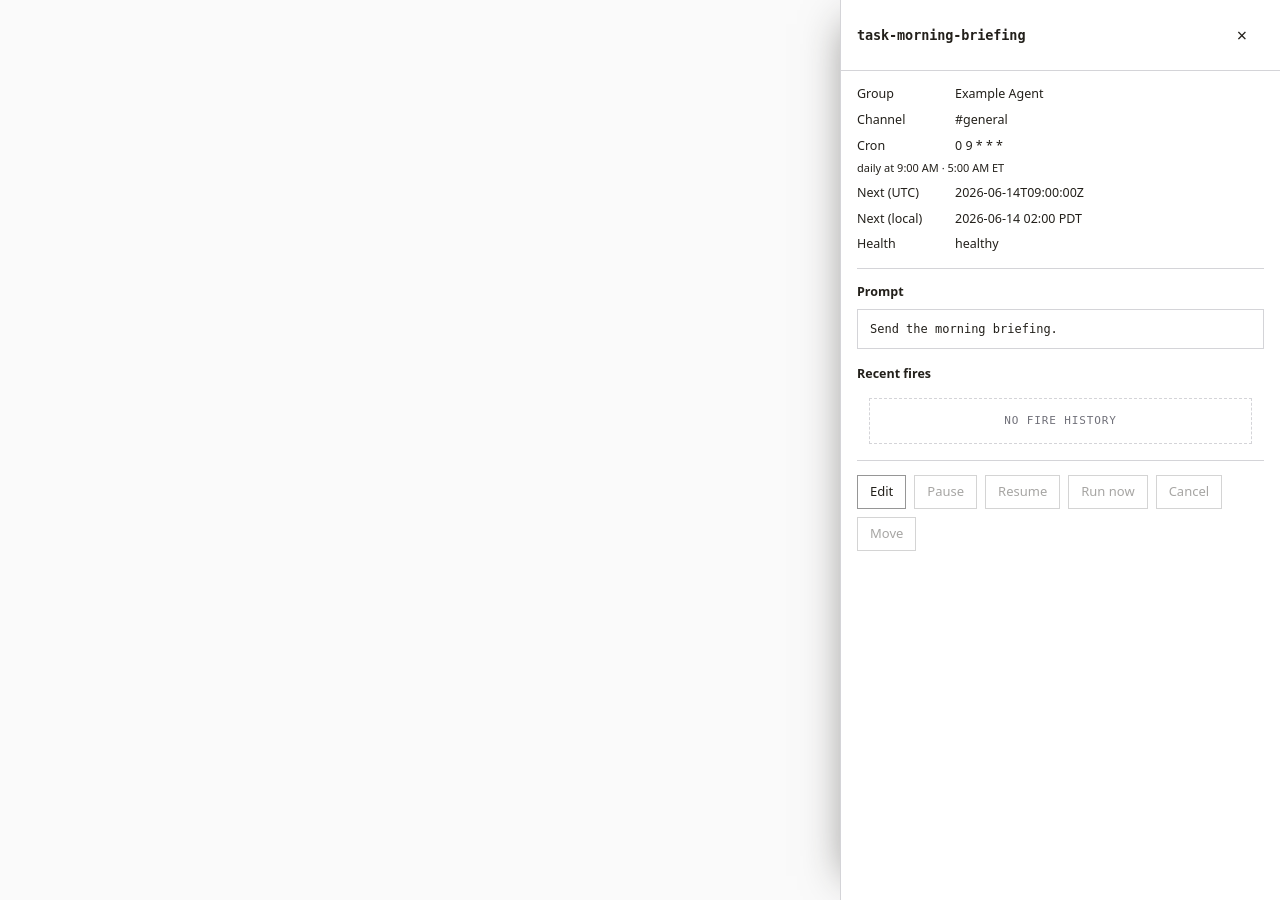
Test: ScheduledDrawer › the edit form live-updates the plain-English subtext as the cron field changes
expect the dialog with test id "sched-drawer" is shown: met, box [840,0,1279,899]
Click the button "Edit": (882, 492) [857,475,906,509]
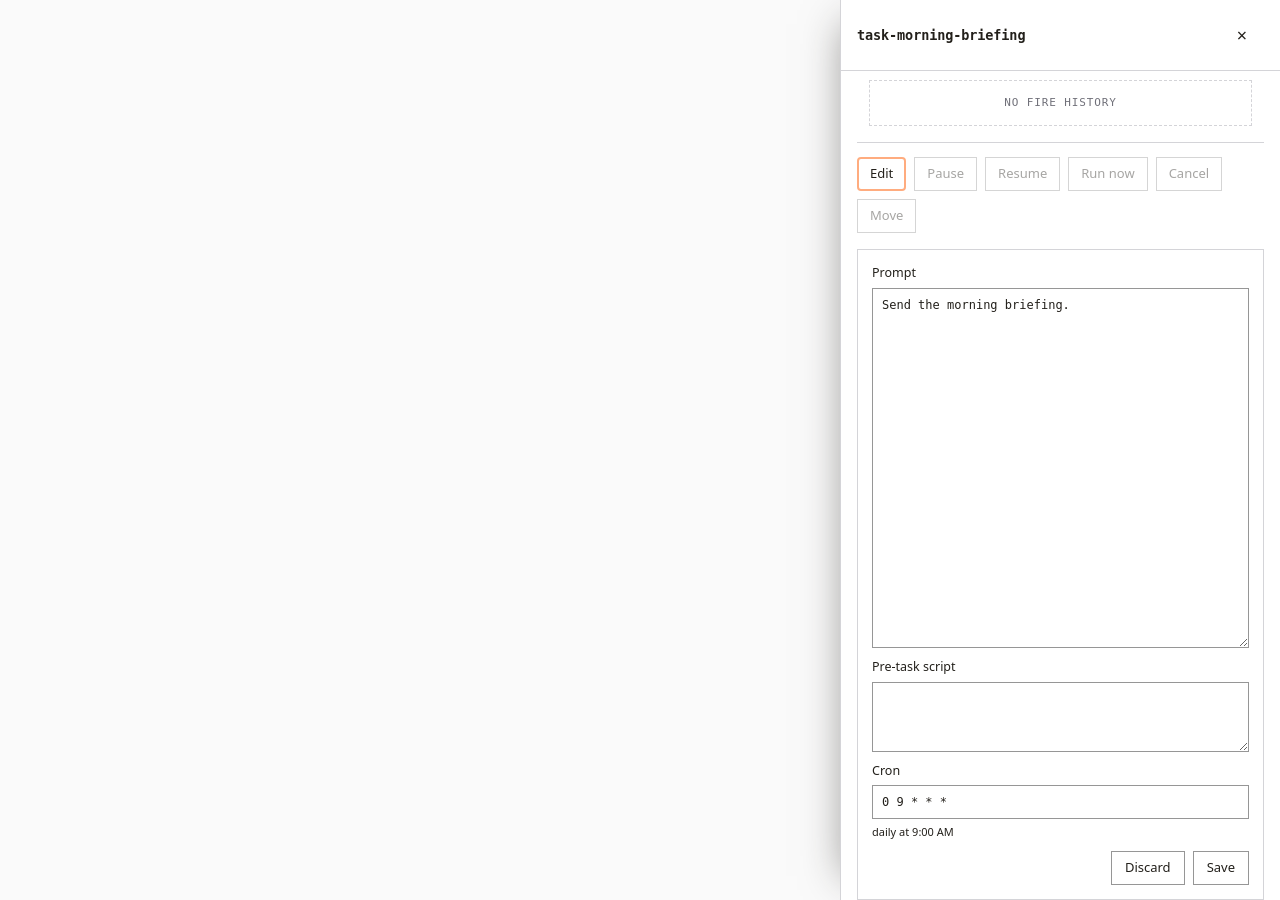
expect the form with test id "sched-edit-form" shows "daily at 9:00 AM": met, box [872,824,954,839]
Clear the field labelled "Cron": (1060, 802) [872,785,1249,819]
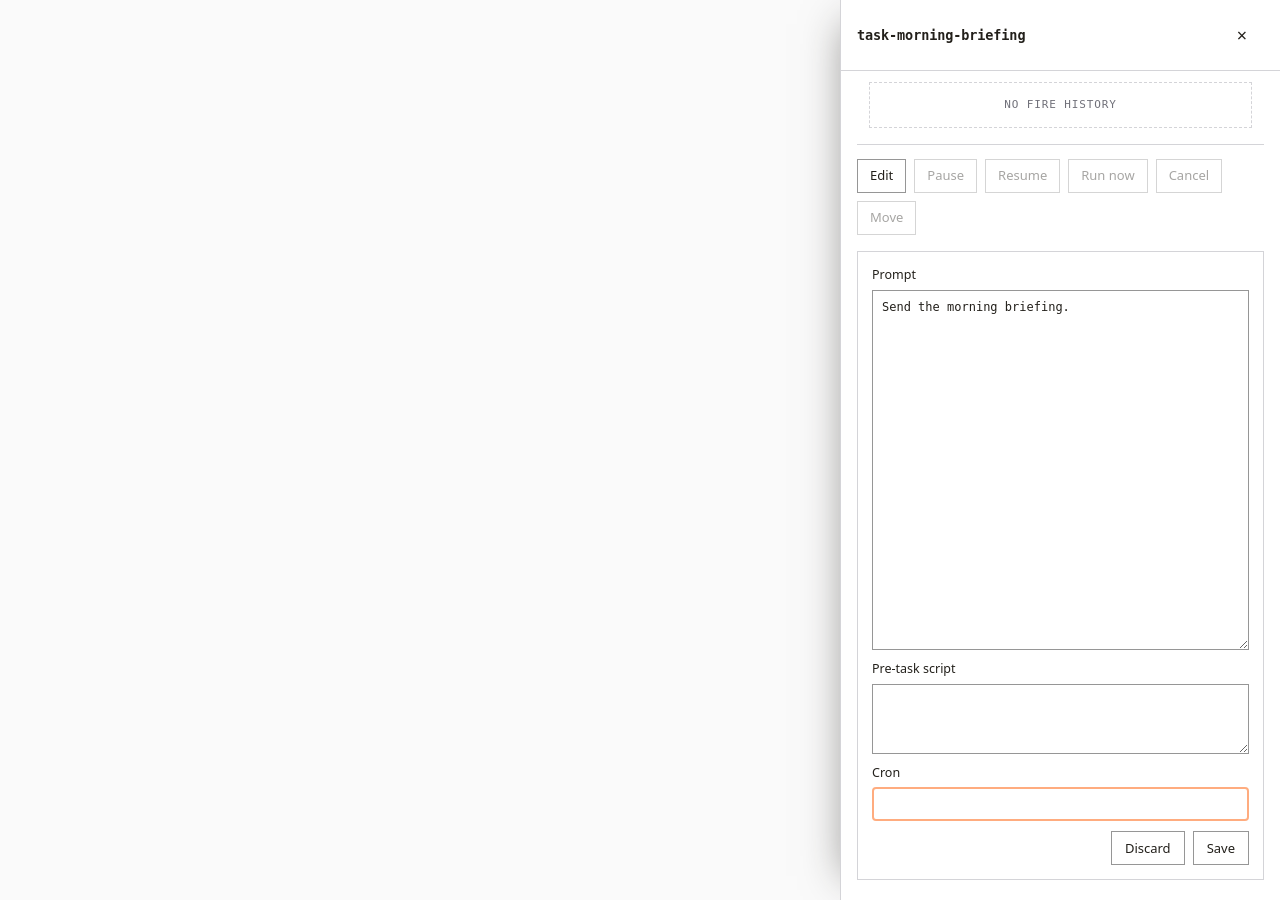
In the field labelled "Cron": (1060, 804) [872,787,1249,821], type "*/15 * * * *"
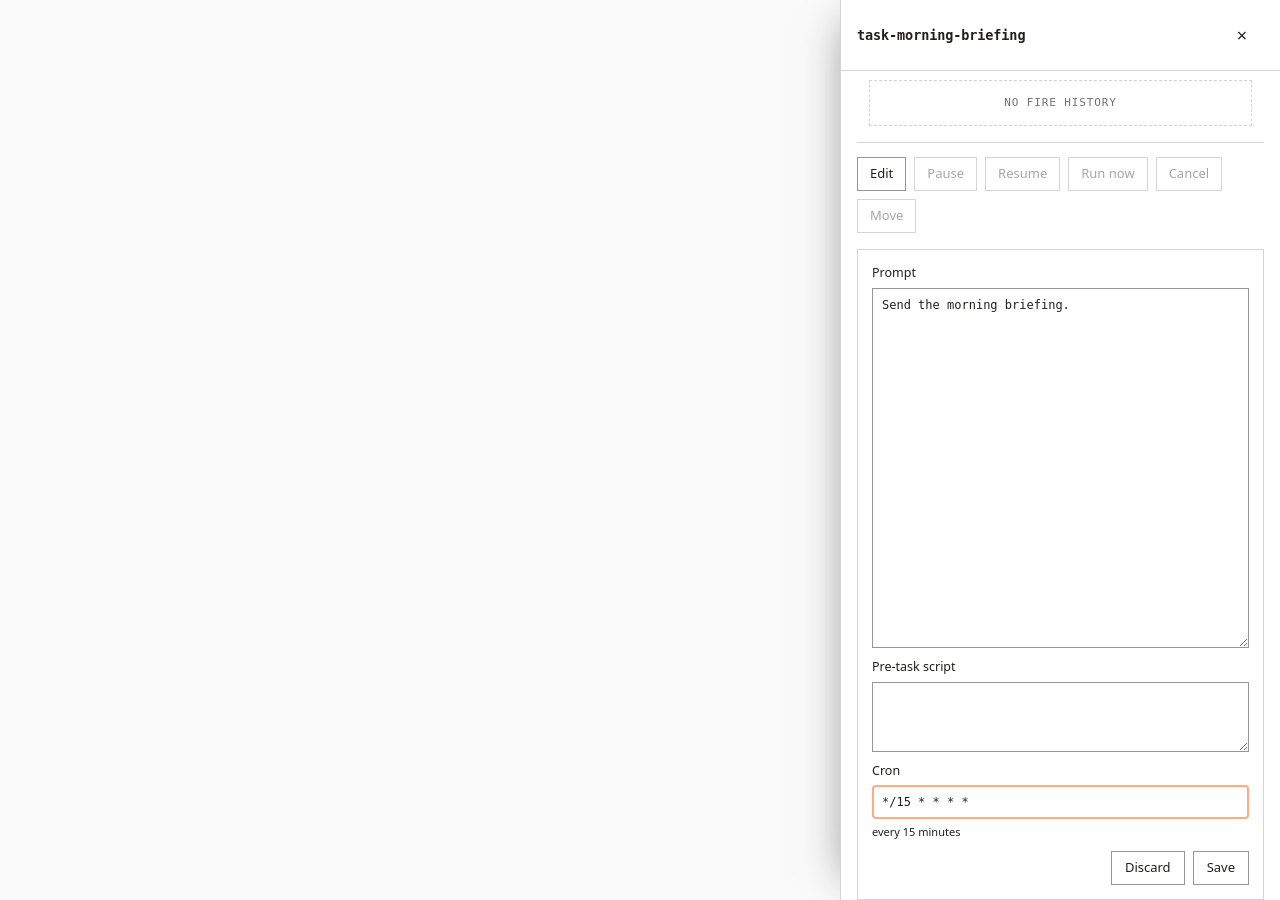
expect the text with test id "sched-edit-form" does not show "daily at": met
expect the form with test id "sched-edit-form" shows "every 15 minutes": met, box [872,824,960,839]
